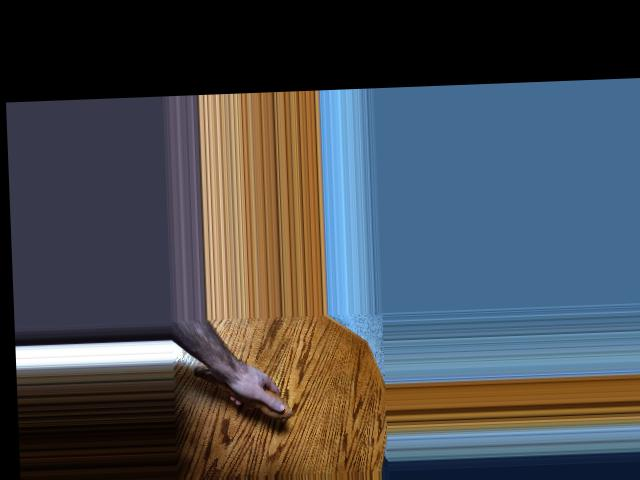sweet_potato: (176, 361, 294, 424)
